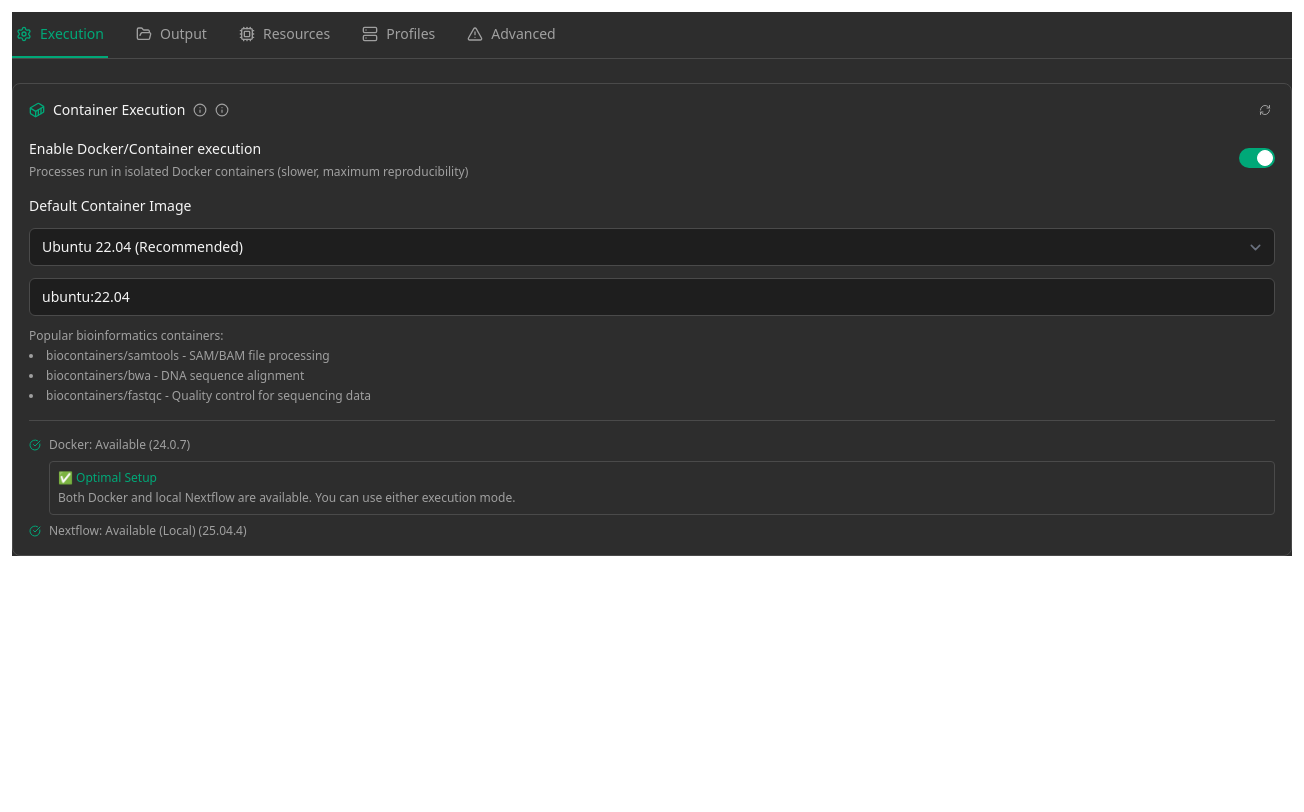
Test case: ExecutionSettings › Resources tab › says how far a workflow's own limits can go
The image size is (1304, 812).
Expected: the text "Docker: Available (24.0.7)" is shown, [49,437,190,453]
What coordinates should you click on to do the following:
click the button "Resources"
I would click on:
 (285, 35)
Its box is [235,12,334,58].
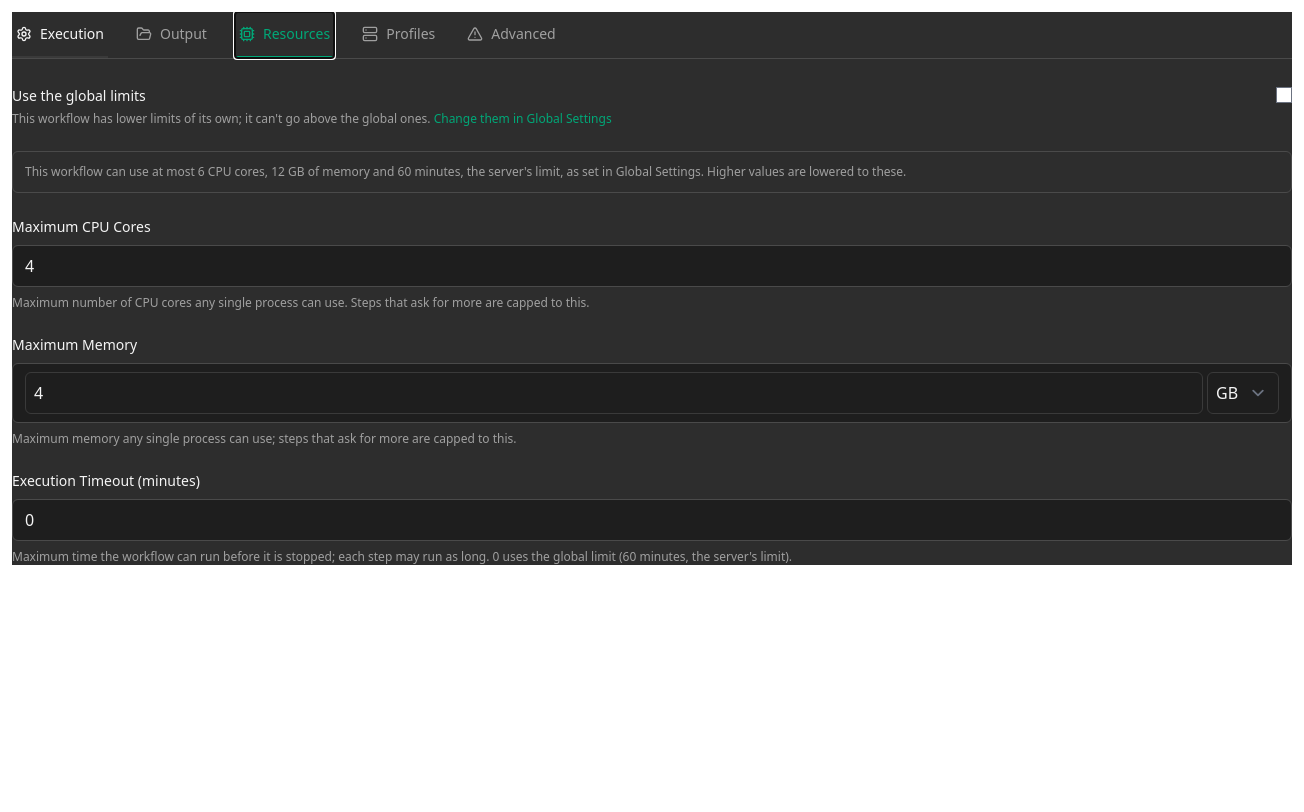
Expected: the text named "Global limits" shows "This workflow can use at most 6 CPU cores, 12 GB of memory and 60 minutes, the server's limit, as set in Global Settings", [12,151,1292,193]
